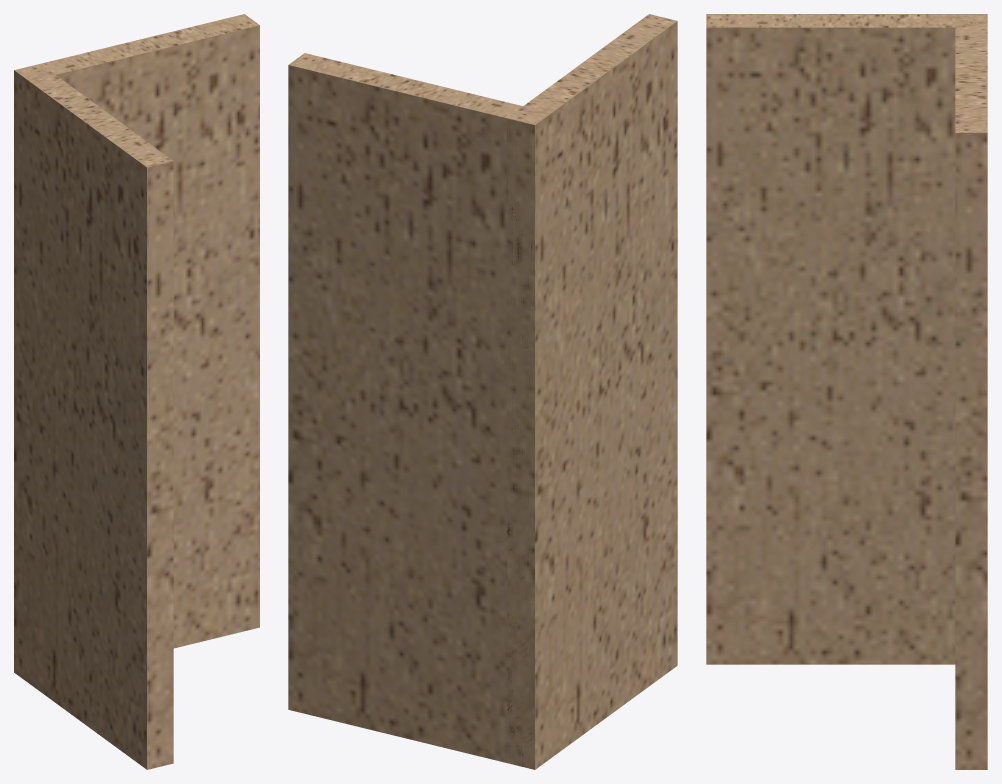
File: small-corner1.fbx
The picture shows the model from 3 angles, left to right: view 1: azimuth 30°, elevation 25°; view 2: azimuth 150°, elevation 25°; view 3: azimuth 270°, elevation 25°; orthographic projection. The views are drawn at different scales.
Visible parts, largest first — view 1: small-corner1; view 2: small-corner1; view 3: small-corner1.
Part boxes in pixels (<box>): small-corner1: <box>14,14,259,769</box>; small-corner1: <box>288,14,677,769</box>; small-corner1: <box>706,14,987,769</box>.
Size of the model in its own units: 200 by 499 by 200.
